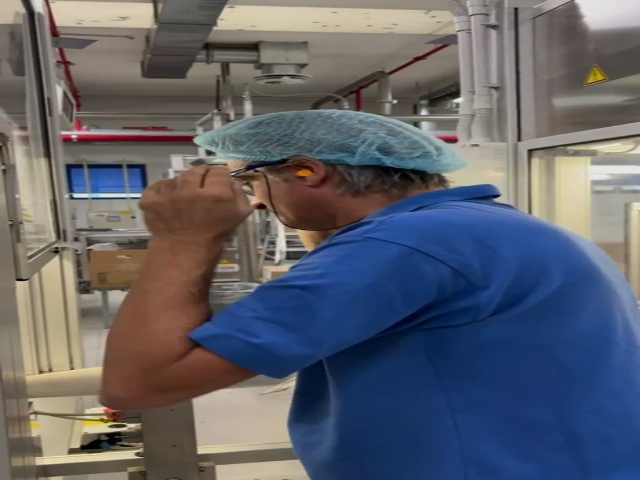Earplug: (284, 157, 326, 185)
Hairnet: (193, 109, 463, 172)
No_Helmet: (194, 110, 462, 169)
No_Vest: (291, 218, 640, 480)
Person: (102, 107, 637, 480)
Safety_Goggles: (214, 151, 308, 182)
